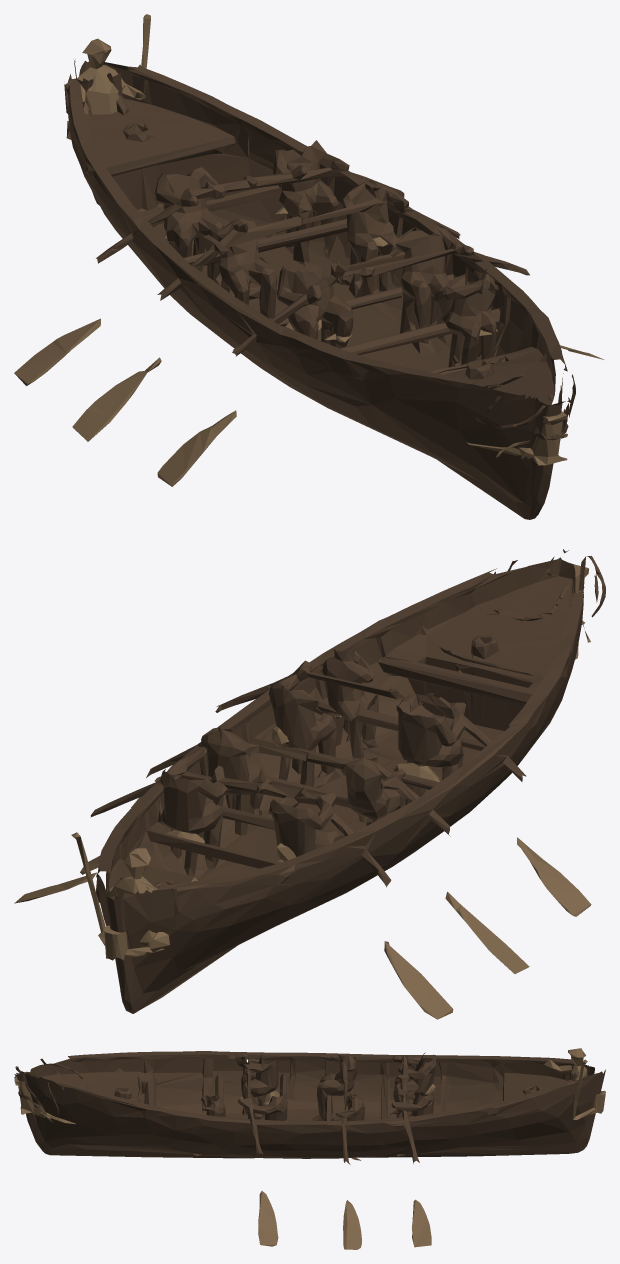
The model's file is rowboat.glb.
The picture shows the model from 3 angles, top to bottom: view 1: azimuth 30°, elevation 25°; view 2: azimuth 150°, elevation 25°; view 3: azimuth 270°, elevation 25°; orthographic projection. The views are drawn at different scales.
Parts seen in each view (by area): view 1: Hull_Main, Wood_Trim; view 2: Hull_Main, Wood_Trim; view 3: Hull_Main, Wood_Trim.
Boxes of the visible parts, x1=… form: Hull_Main: x1=64, y1=59, x2=575, y2=519; Wood_Trim: x1=14, y1=14, x2=604, y2=486; Hull_Main: x1=90, y1=549, x2=605, y2=1013; Wood_Trim: x1=14, y1=564, x2=591, y2=1019; Hull_Main: x1=14, y1=1051, x2=605, y2=1164; Wood_Trim: x1=14, y1=1048, x2=605, y2=1249.
Size of what is drawn, in the model's own units: 2.29 by 1.06 by 4.15.
